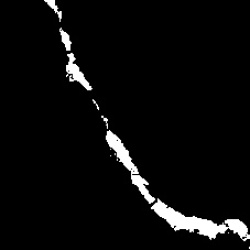crack: (43, 2, 249, 242)
